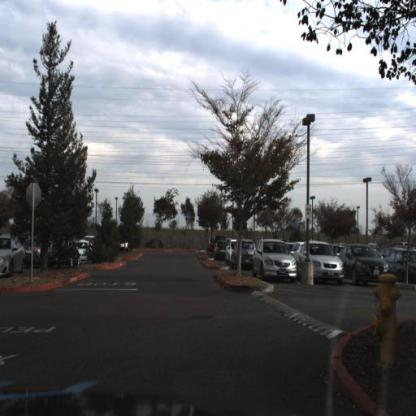car: (253, 239, 298, 283), (342, 244, 389, 285), (301, 243, 345, 286), (1, 237, 28, 280), (1, 237, 27, 281), (388, 247, 416, 285), (230, 236, 257, 272), (49, 240, 80, 270), (231, 241, 255, 270), (26, 237, 44, 273), (24, 243, 45, 273), (76, 239, 93, 267), (223, 237, 237, 265), (213, 240, 228, 263), (78, 241, 90, 266), (216, 242, 230, 260)
